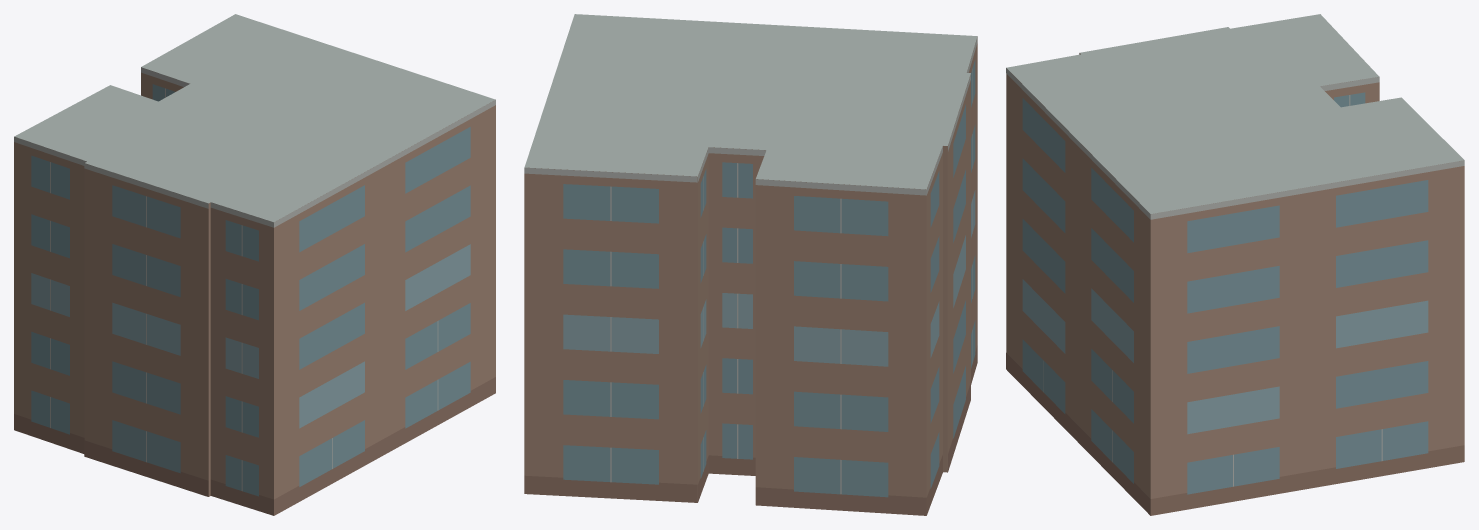
File: survey-upis-32725843.glb
3 renders of one model, left to right at view 1: azimuth 30°, elevation 25°; view 2: azimuth 150°, elevation 25°; view 3: azimuth 270°, elevation 25°, orthographic. The views are drawn at different scales.
Parts seen in each view (by area): view 1: survey-upis-32725843.tmp; view 2: survey-upis-32725843.tmp; view 3: survey-upis-32725843.tmp.
Boxes of the visible parts, bbox=[...] form: survey-upis-32725843.tmp: bbox=[14, 14, 495, 515]; survey-upis-32725843.tmp: bbox=[524, 14, 977, 515]; survey-upis-32725843.tmp: bbox=[1006, 14, 1464, 515].
Bounding box in the file's own units: 18.71 × 13.14 × 18.1.
